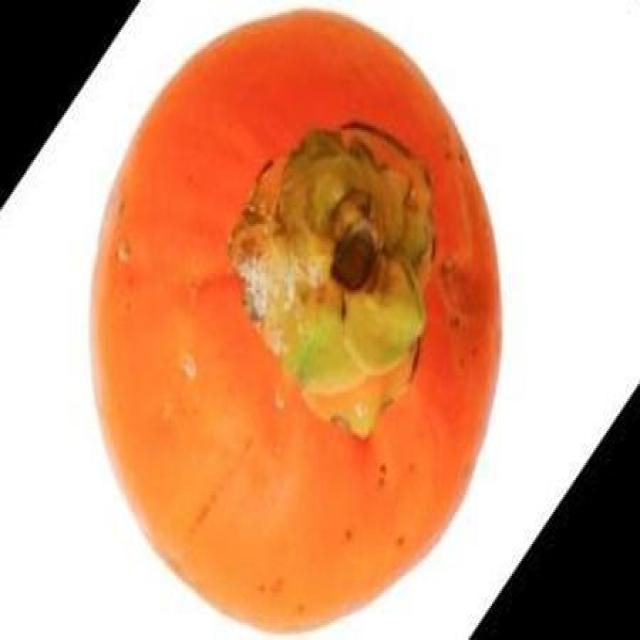good: (85, 9, 506, 638), (122, 64, 496, 629)
